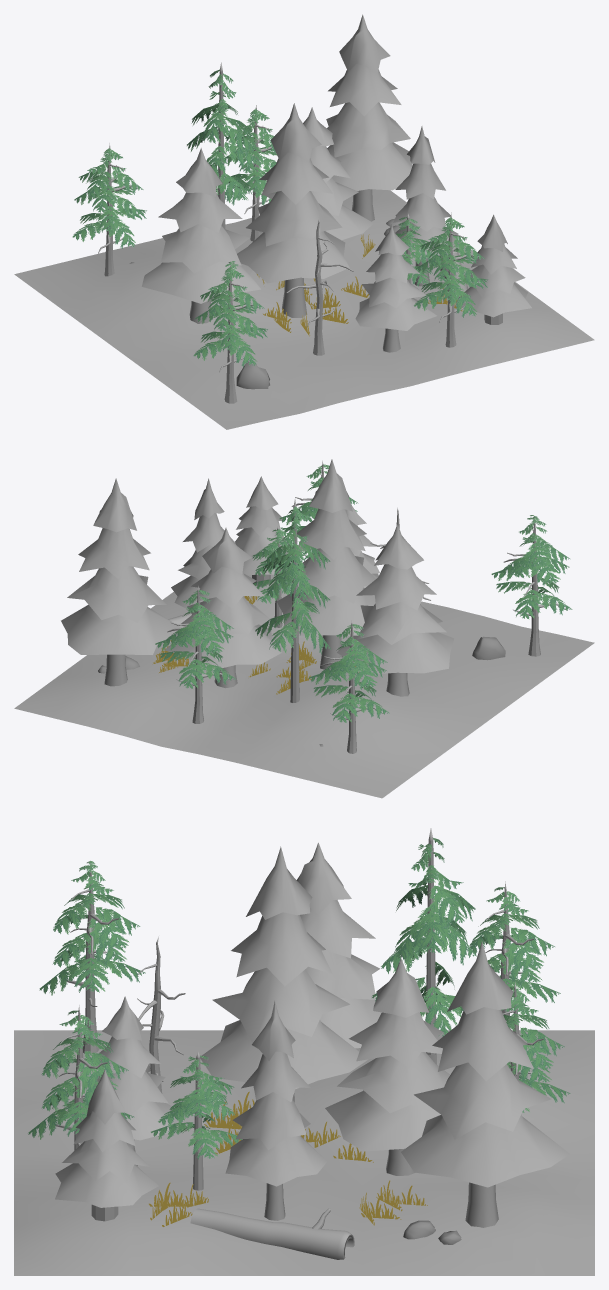
The model's file is ForestTile1.fbx.
3 views of the same model, one above another, from view 1: azimuth 30°, elevation 25°; view 2: azimuth 150°, elevation 25°; view 3: azimuth 270°, elevation 25° (orthographic). The views are drawn at different scales.
Parts seen in each view (by area): view 1: ForestTile1; view 2: ForestTile1; view 3: ForestTile1.
Boxes of the visible parts, x1,y1,x2,y2 form: ForestTile1: (14, 14, 594, 429); ForestTile1: (14, 459, 594, 798); ForestTile1: (14, 828, 594, 1275).
Size of the model in its own units: 103 by 62.17 by 100.
